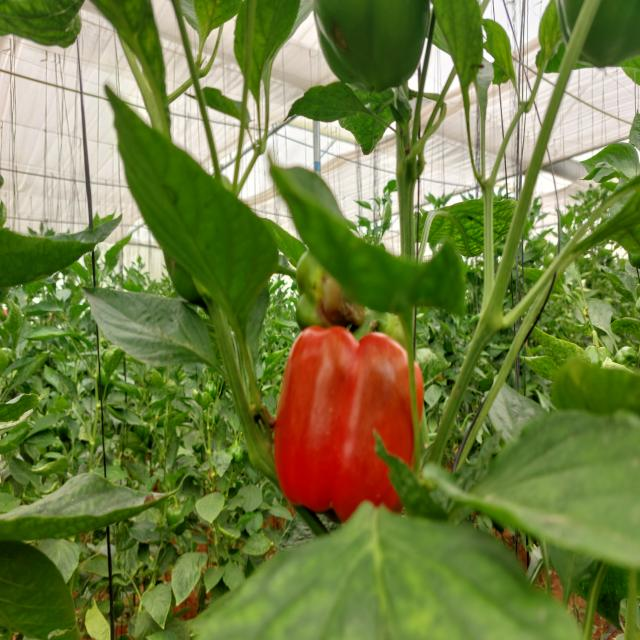Red-Ready-to-Harvest: (269, 314, 422, 522)
